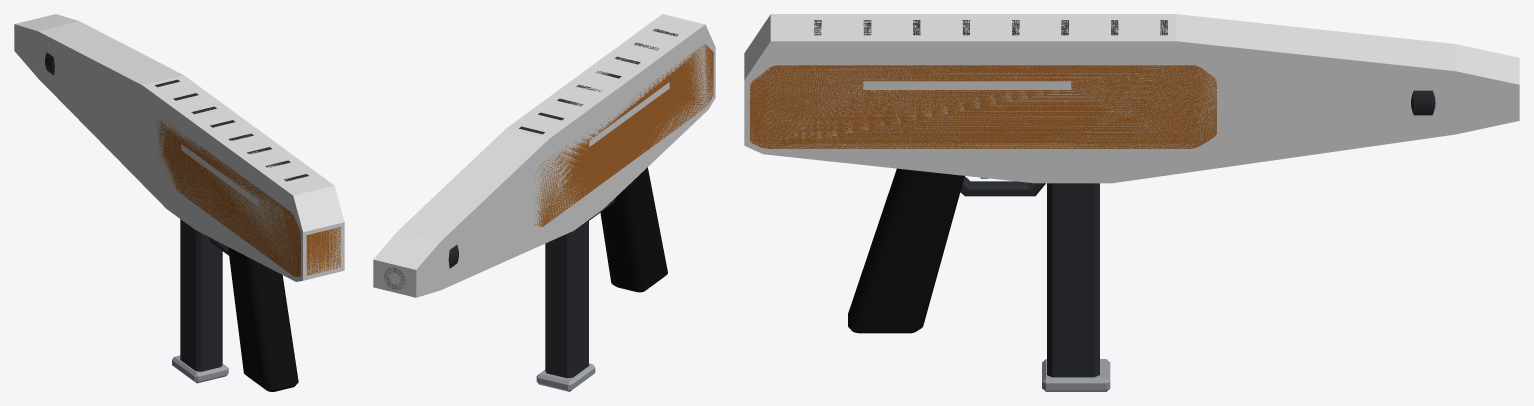
Rendered from smg.glb.
3 views of the same model, side by side, from view 1: azimuth 30°, elevation 25°; view 2: azimuth 150°, elevation 25°; view 3: azimuth 270°, elevation 25° (orthographic). The views are drawn at different scales.
Visible parts, largest first — view 1: COL_body, receiver, grip, magazine, sight_rail; view 2: COL_body, receiver, magazine, grip, sight_rail, barrel_shroud; view 3: COL_body, receiver, grip, magazine, trigger_guard, sight_rail.
Part boxes in pixels (<box>): COL_body: <box>14,14,344,281</box>; receiver: <box>154,119,340,277</box>; grip: <box>228,247,298,391</box>; magazine: <box>172,219,228,383</box>; sight_rail: <box>155,79,308,181</box>; COL_body: <box>373,14,715,297</box>; receiver: <box>533,44,713,226</box>; magazine: <box>536,220,595,391</box>; grip: <box>600,167,667,292</box>; sight_rail: <box>519,28,678,134</box>; barrel_shroud: <box>384,245,458,290</box>; COL_body: <box>744,14,1519,183</box>; receiver: <box>750,65,1216,148</box>; grip: <box>848,168,964,333</box>; magazine: <box>1042,183,1110,391</box>; trigger_guard: <box>960,176,1045,196</box>; sight_rail: <box>814,20,1167,35</box>.
Bounding box in the file's own units: 0.037 × 0.207 × 0.41.
